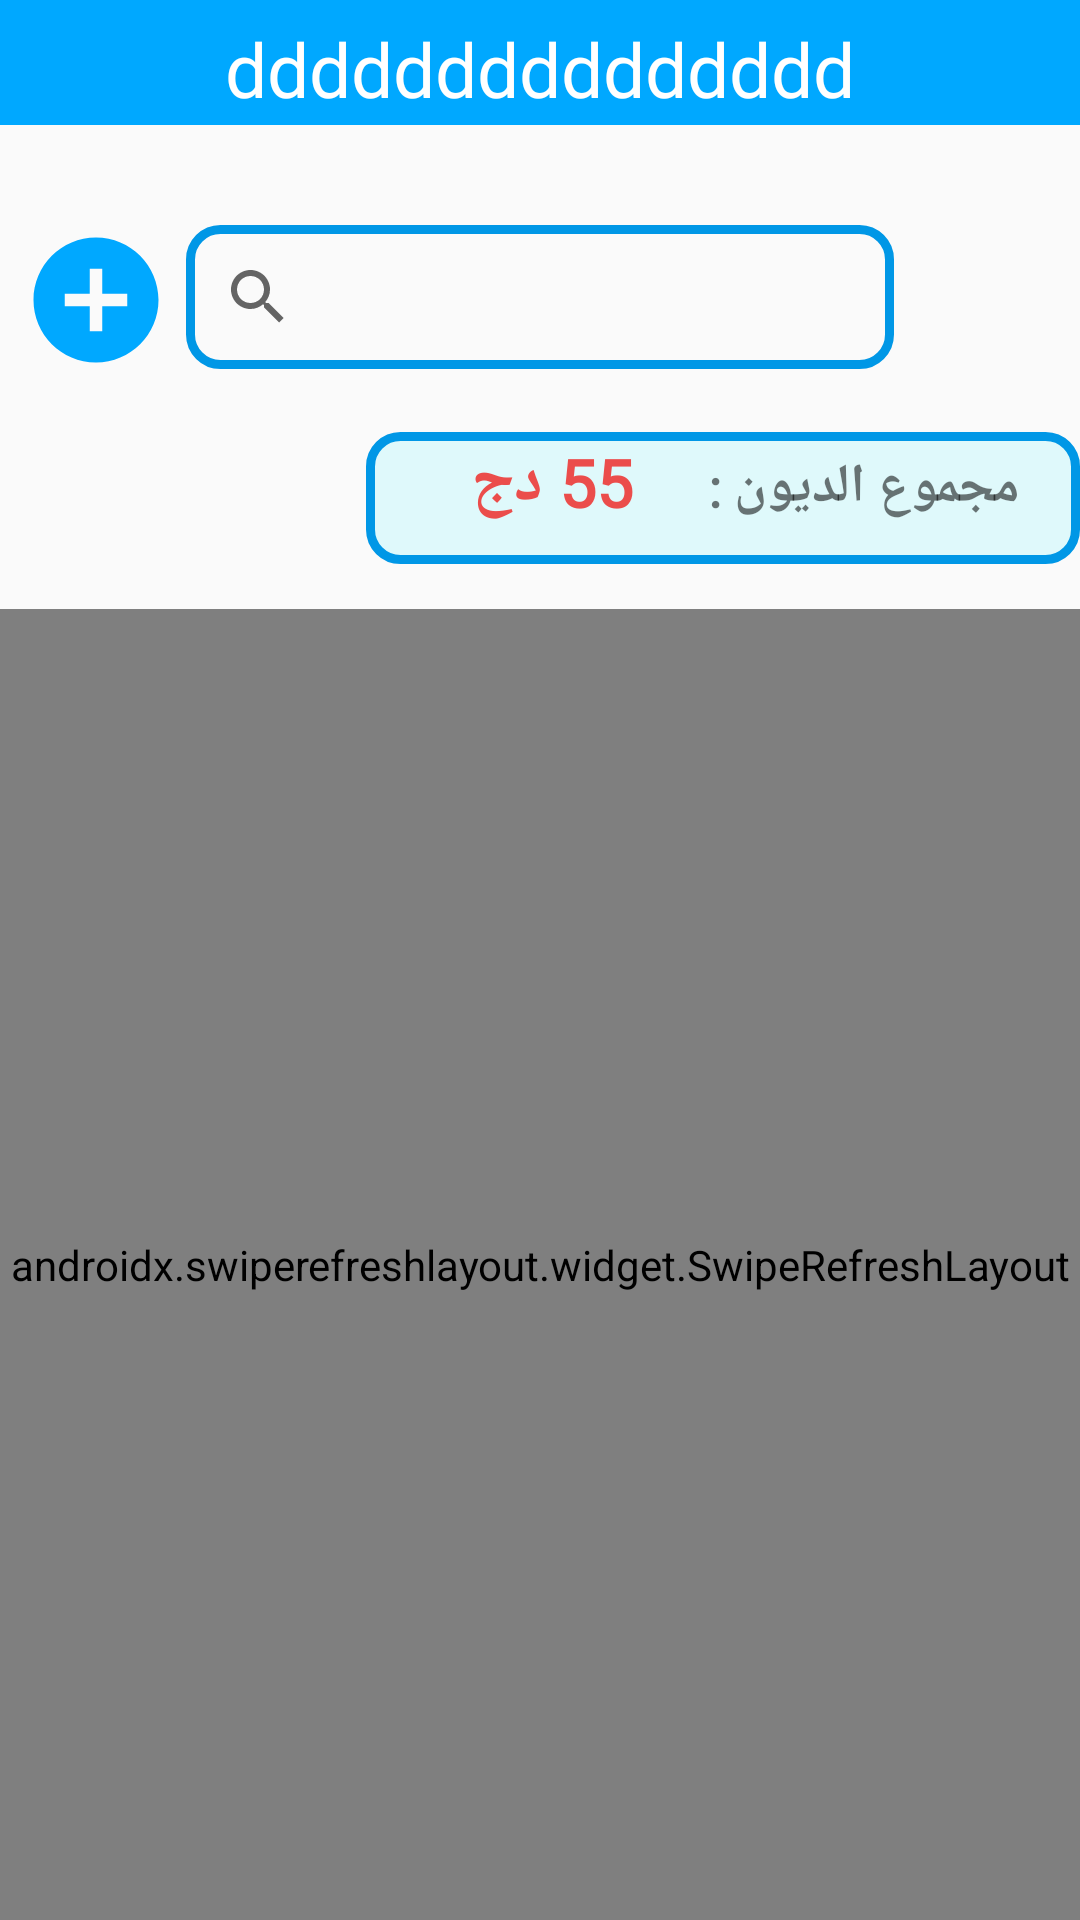

Icons on this 1080x1920 Android screen, each with its box as [x1, y1, x2, y2]:
add circle: [33, 237, 159, 363]
